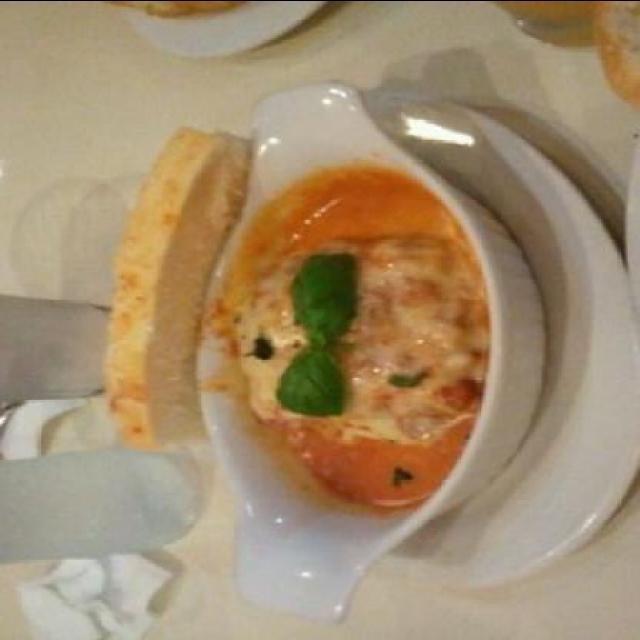Lasagna: (221, 175, 521, 479)
